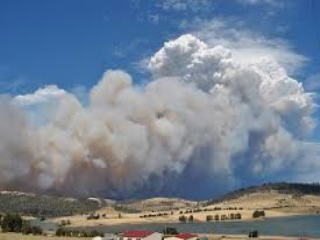smoke: (11, 81, 251, 192), (152, 32, 306, 122)
